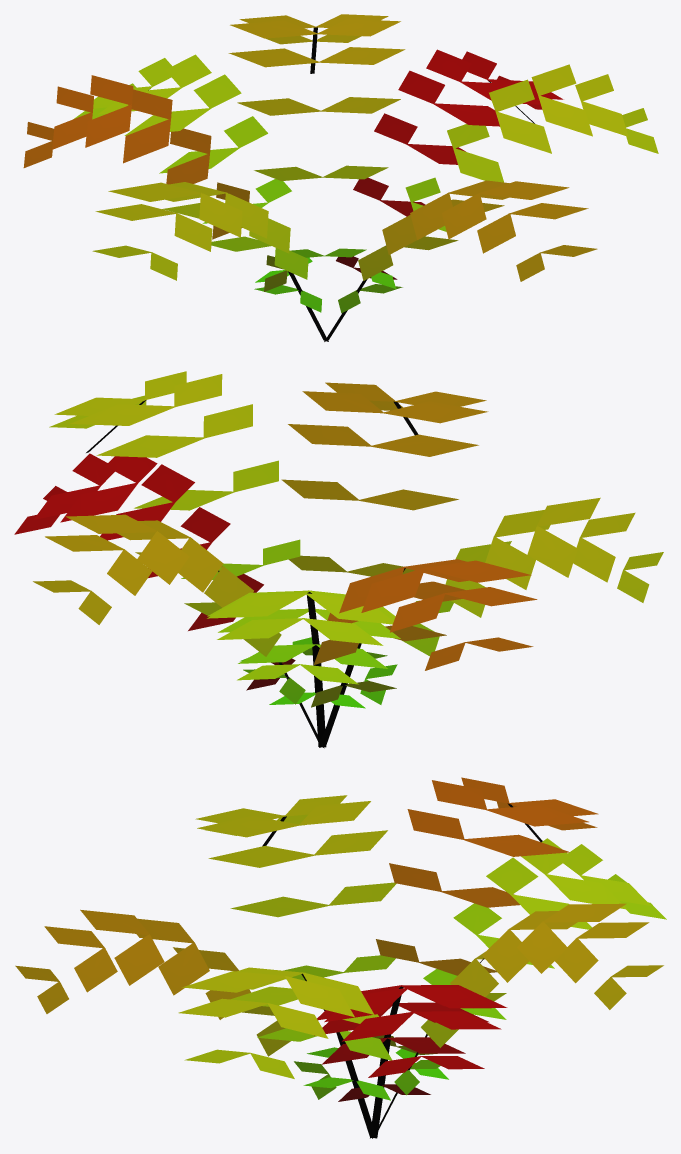
File: fern.glb
3 views of the same model, one above another, from view 1: azimuth 30°, elevation 25°; view 2: azimuth 150°, elevation 25°; view 3: azimuth 270°, elevation 25° (orthographic). The views are drawn at different scales.
Parts seen in each view (by area): view 1: foliage_arching_fern, bark_fern_stems; view 2: foliage_arching_fern, bark_fern_stems; view 3: foliage_arching_fern, bark_fern_stems.
Part boxes in pixels (x1,y1,x2,y2): foliage_arching_fern: (23,14,658,313); bark_fern_stems: (148,27,534,341); foliage_arching_fern: (14,371,663,708); bark_fern_stems: (86,400,418,748); foliage_arching_fern: (15,777,666,1101); bark_fern_stems: (262,803,542,1138).
Size of the model in its own units: 1.05 by 0.4299 by 1.01.
